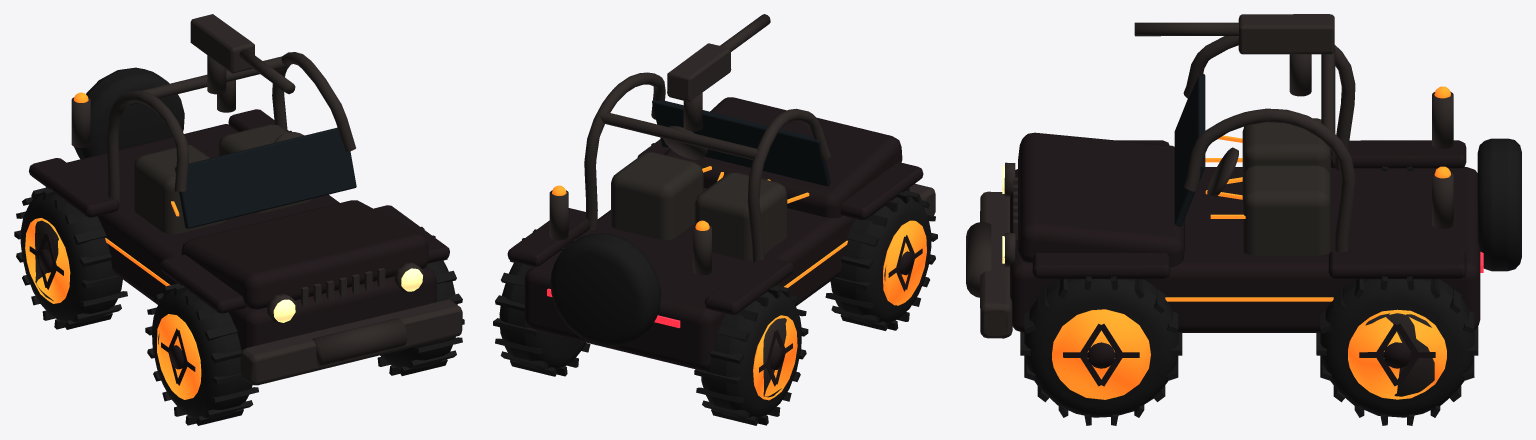
File: jeep_lava.glb
3 renders of one model, left to right at view 1: azimuth 30°, elevation 25°; view 2: azimuth 150°, elevation 25°; view 3: azimuth 270°, elevation 25°, orthographic. The views are drawn at different scales.
Parts seen in each view (by area): view 1: krop_net; view 2: krop_net; view 3: krop_net.
Boxes of the visible parts, x1,y1,x2,y2 form: krop_net: (14, 14, 464, 425); krop_net: (493, 14, 937, 425); krop_net: (966, 14, 1521, 425).
Size of the model in its own units: 1.04 by 1.15 by 1.71.
